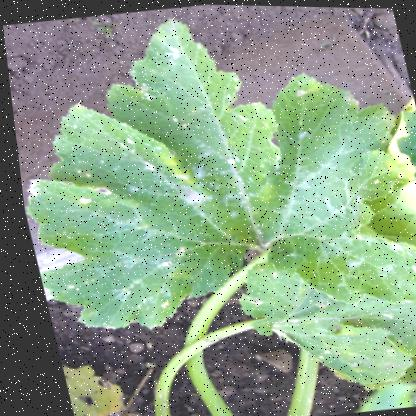PowderyMildew: (119, 93, 259, 248), (56, 169, 218, 298), (239, 132, 375, 268)
